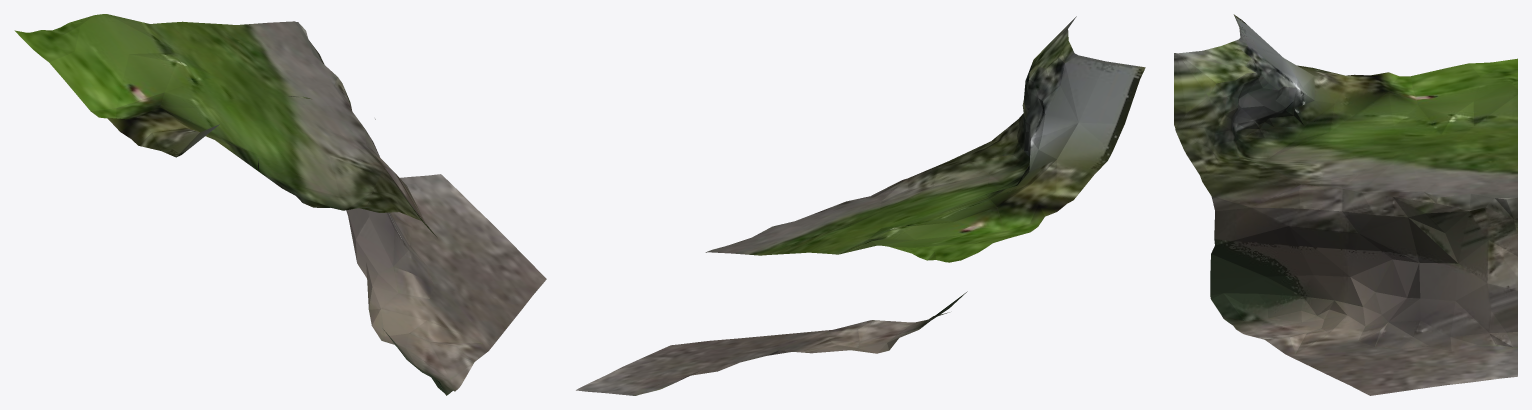
The picture shows the model from 3 angles, left to right: view 1: azimuth 30°, elevation 25°; view 2: azimuth 150°, elevation 25°; view 3: azimuth 270°, elevation 25°; orthographic projection. The views are drawn at different scales.
Bounding box in the file's own units: 3.35 × 2.55 × 3.35.
3 materials, 3 textured.
